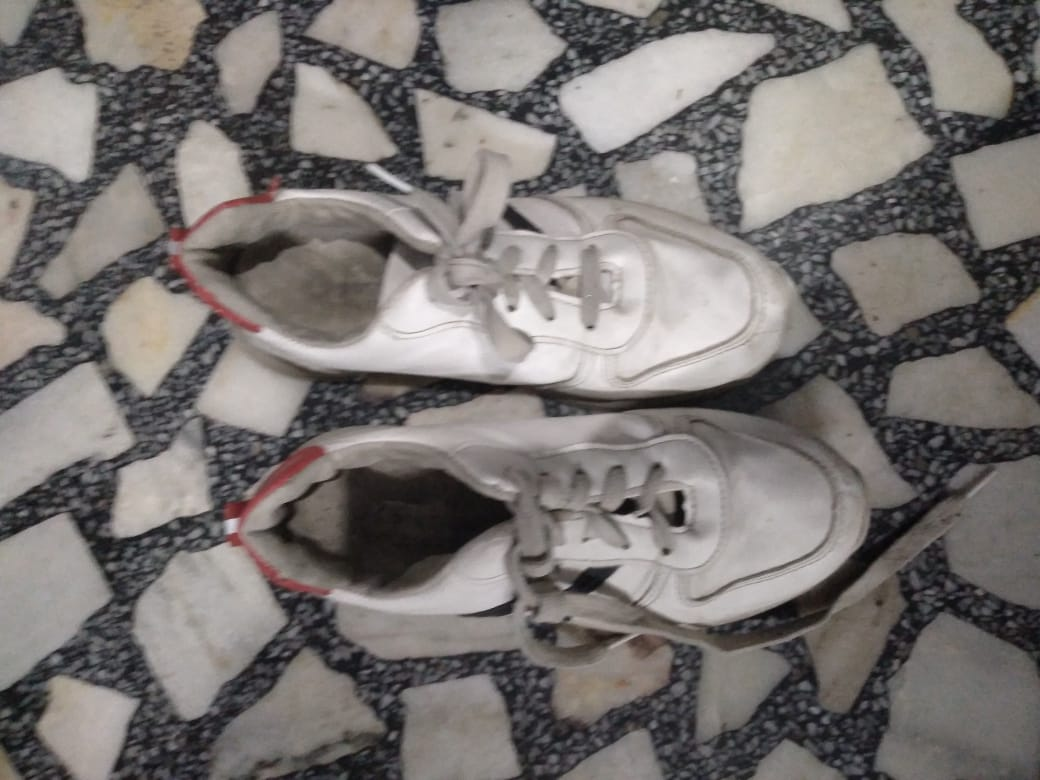Footwear: (120, 137, 900, 669), (209, 402, 875, 633), (156, 162, 799, 395)
